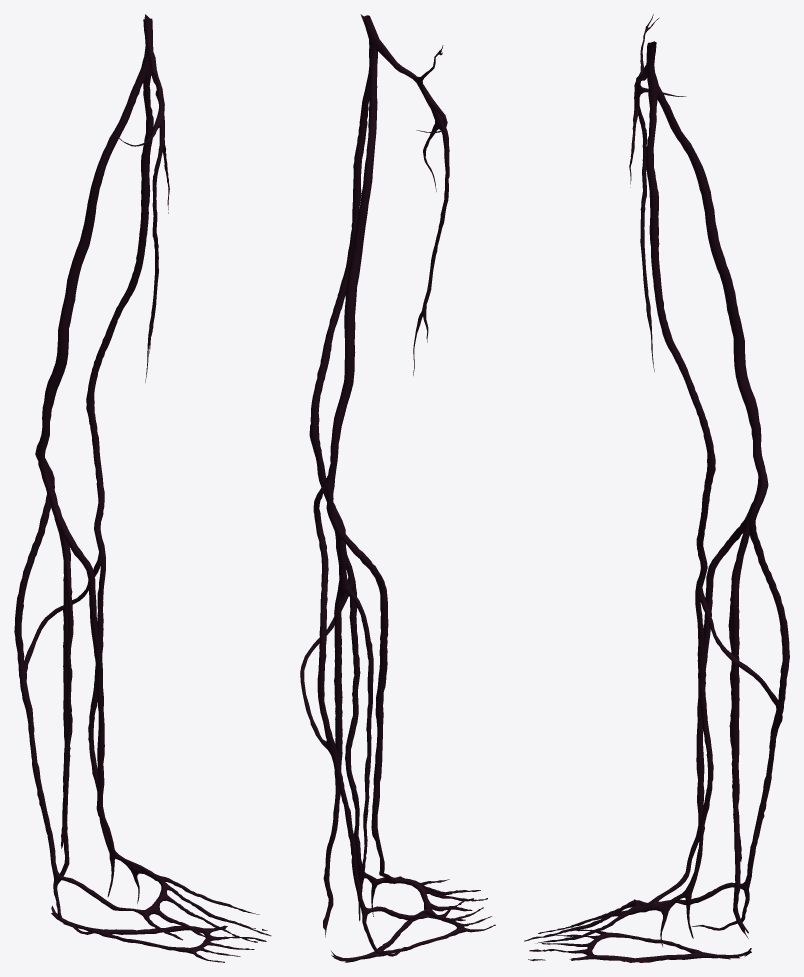
The model's file is Veins_Intercostales_dorsales_lower.002.obj.
3 renders of one model, left to right at view 1: azimuth 90°, elevation 25°; view 2: azimuth 150°, elevation 25°; view 3: azimuth 270°, elevation 25°, orthographic. The views are drawn at different scales.
Visible parts, largest first — view 1: Veins_Intercostales_dorsales_lower.002_Veins_lower.000; view 2: Veins_Intercostales_dorsales_lower.002_Veins_lower.000; view 3: Veins_Intercostales_dorsales_lower.002_Veins_lower.000.
Boxes of the visible parts, x1,y1,x2,y2 form: Veins_Intercostales_dorsales_lower.002_Veins_lower.000: (14,14,271,962); Veins_Intercostales_dorsales_lower.002_Veins_lower.000: (300,14,495,962); Veins_Intercostales_dorsales_lower.002_Veins_lower.000: (524,14,789,962).
Bounding box in the file's own units: 0.6713 × 5 × 1.29.
